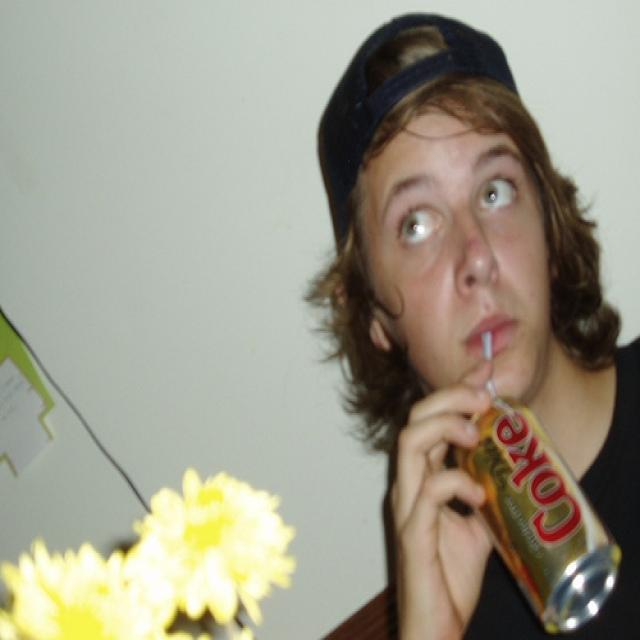person: (317, 13, 640, 639)
